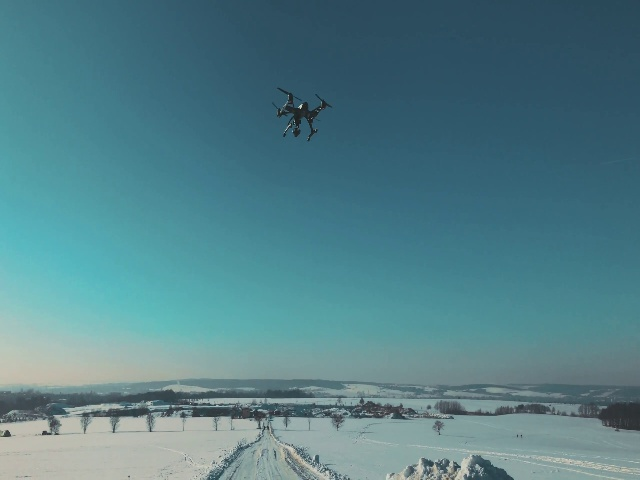drone: (270, 86, 334, 144)
